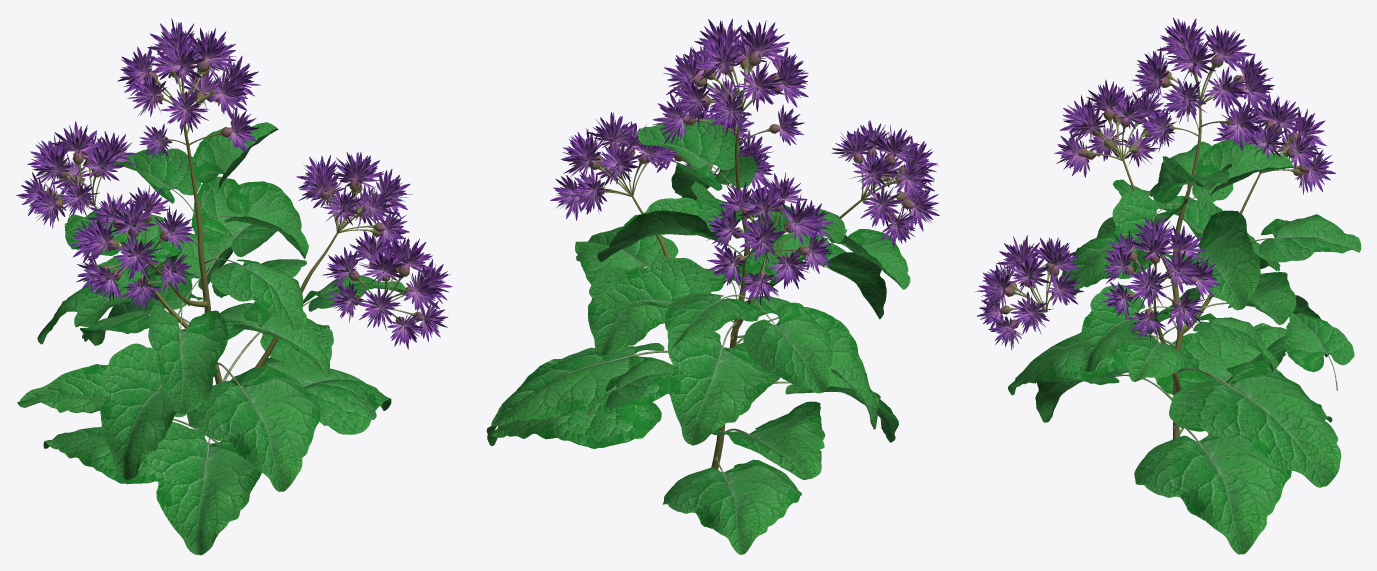
Rendered from cgaxis_models_91_41_fbx.fbx.
3 views of the same model, side by side, from view 1: azimuth 30°, elevation 25°; view 2: azimuth 150°, elevation 25°; view 3: azimuth 270°, elevation 25° (orthographic). The views are drawn at different scales.
Visible parts, largest first — view 1: cgaxis_models_91_41_01; view 2: cgaxis_models_91_41_01; view 3: cgaxis_models_91_41_01.
Boxes of the visible parts, left/top/right/bottom form: cgaxis_models_91_41_01: left=16, top=18, right=452, bottom=555; cgaxis_models_91_41_01: left=486, top=18, right=939, bottom=554; cgaxis_models_91_41_01: left=975, top=17, right=1361, bottom=554.
Size of the model in its own units: 20.4 by 24.07 by 19.46.
Materials: 1 (1 with a texture image).
